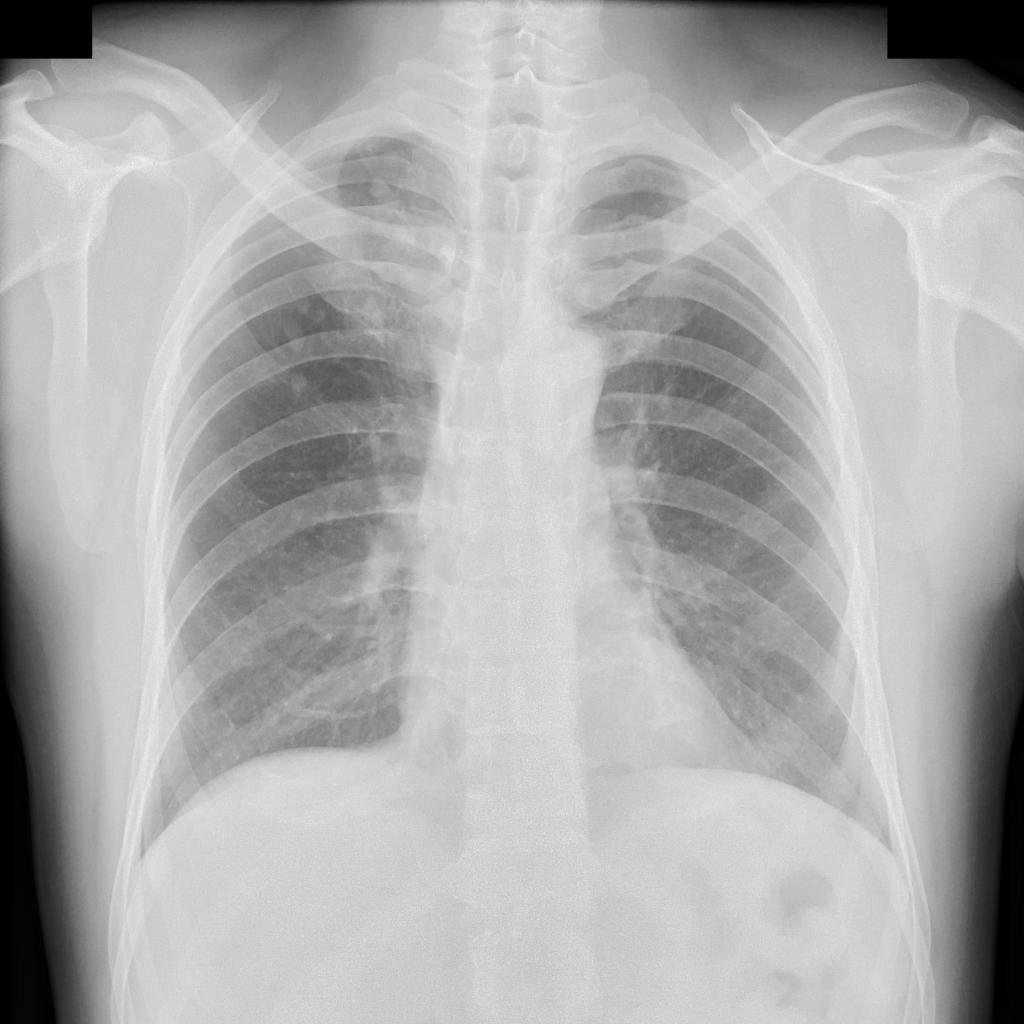Nodule: (272, 287, 329, 350), (369, 176, 389, 196), (290, 373, 310, 393)
